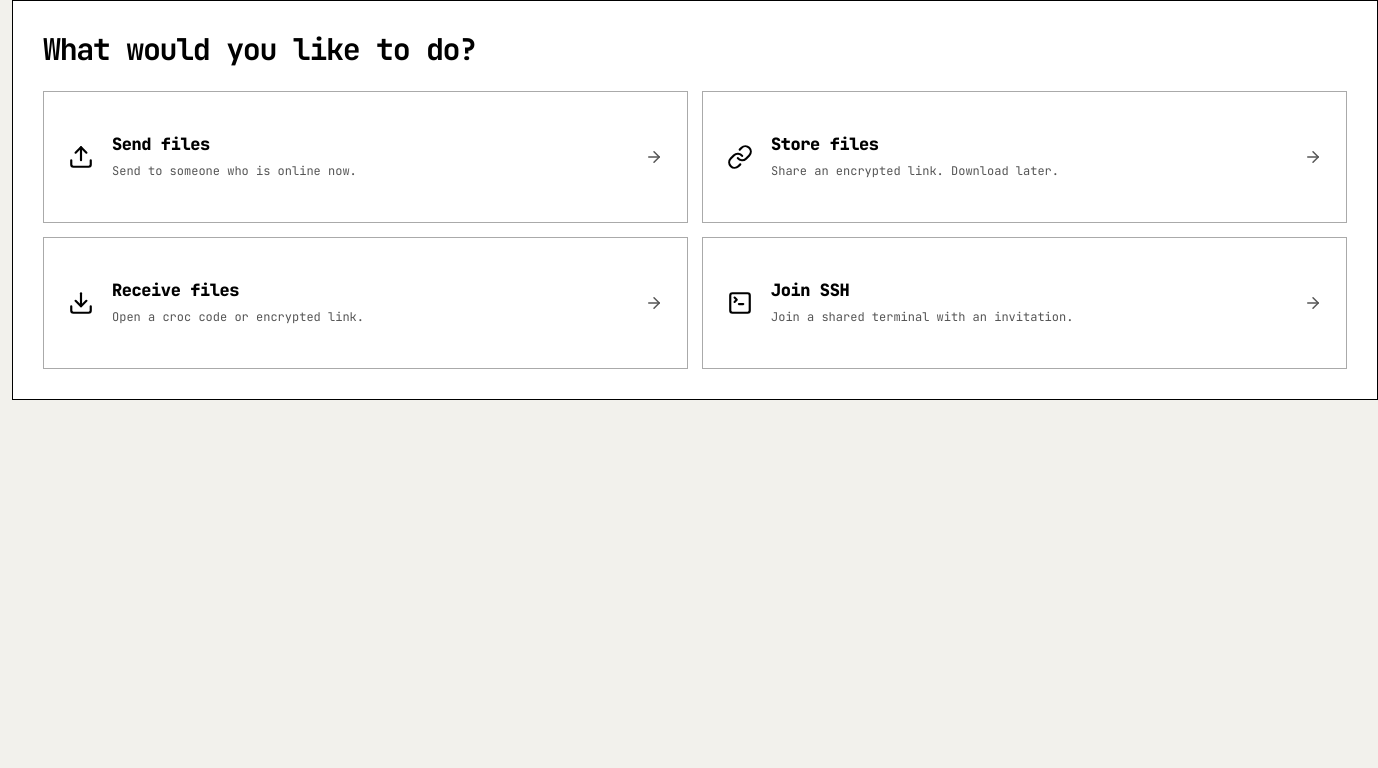
Test case: SSH homepage mode › auto-joins invitation links followed from another task
Click the button "Send files".
click(161, 144)  # box [43,91,688,223]
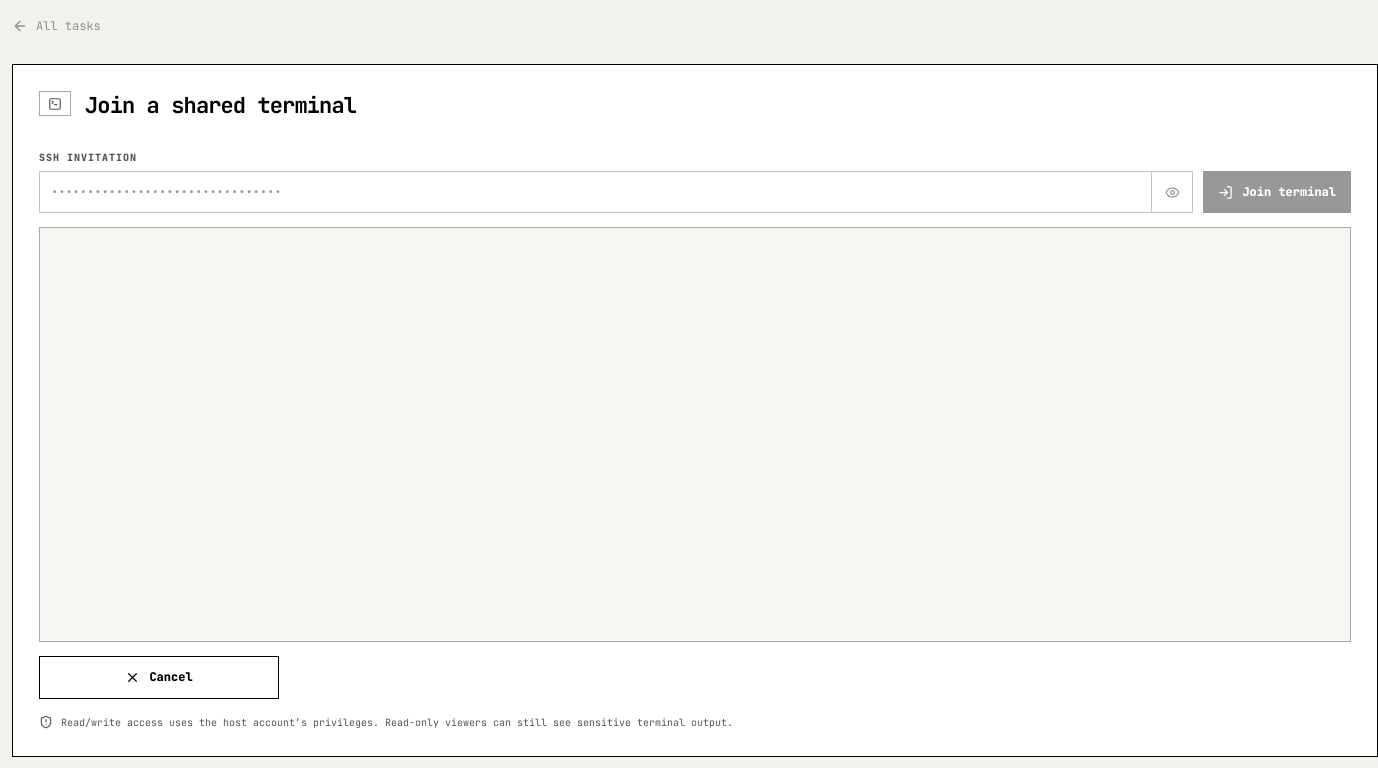
Expected: the button "All tasks" is disabled, [12,4,101,48]
